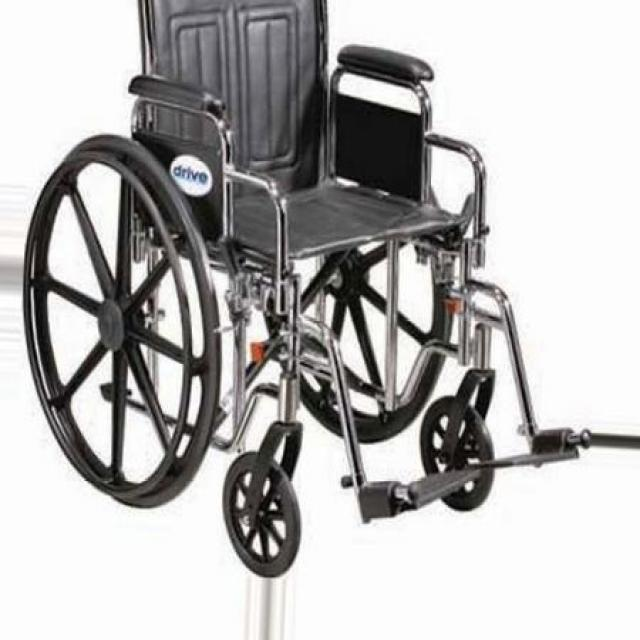wheelchair: (14, 0, 640, 587)
